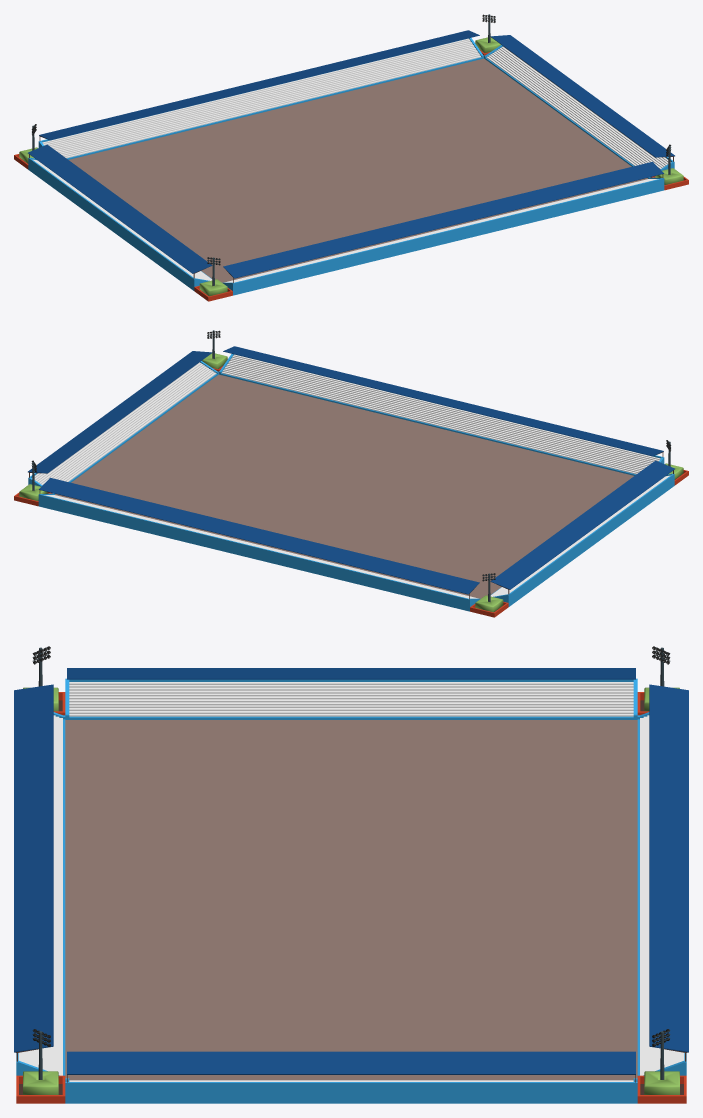
File: stadium.fbx
3 renders of one model, top to bottom at view 1: azimuth 30°, elevation 25°; view 2: azimuth 150°, elevation 25°; view 3: azimuth 270°, elevation 25°, orthographic. The views are drawn at different scales.
Visible parts, largest first — view 1: stadium; view 2: stadium; view 3: stadium.
Boxes of the visible parts, x1=… form: stadium: x1=14, y1=14, x2=688, y2=301; stadium: x1=14, y1=330, x2=688, y2=617; stadium: x1=14, y1=646, x2=688, y2=1103.
Size of the model in its own units: 11753 by 828 by 8253.
